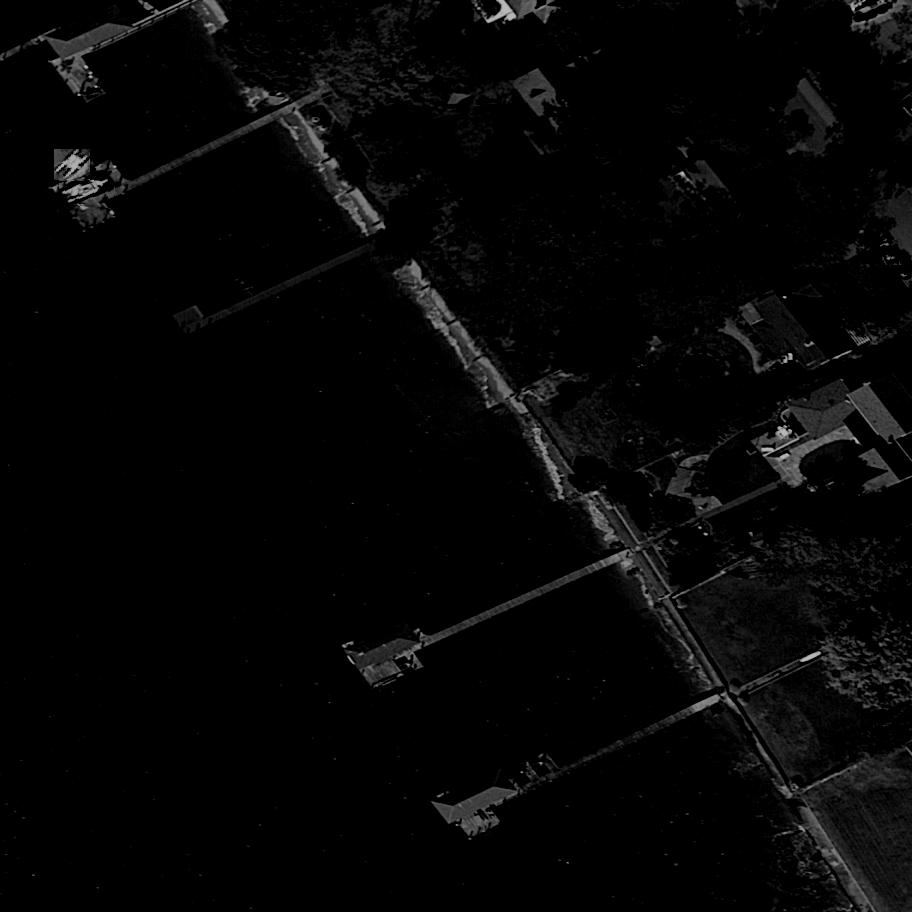ship: (60, 174, 116, 208), (55, 148, 91, 185)
small-vehicle: (878, 238, 902, 267), (893, 258, 911, 282)
